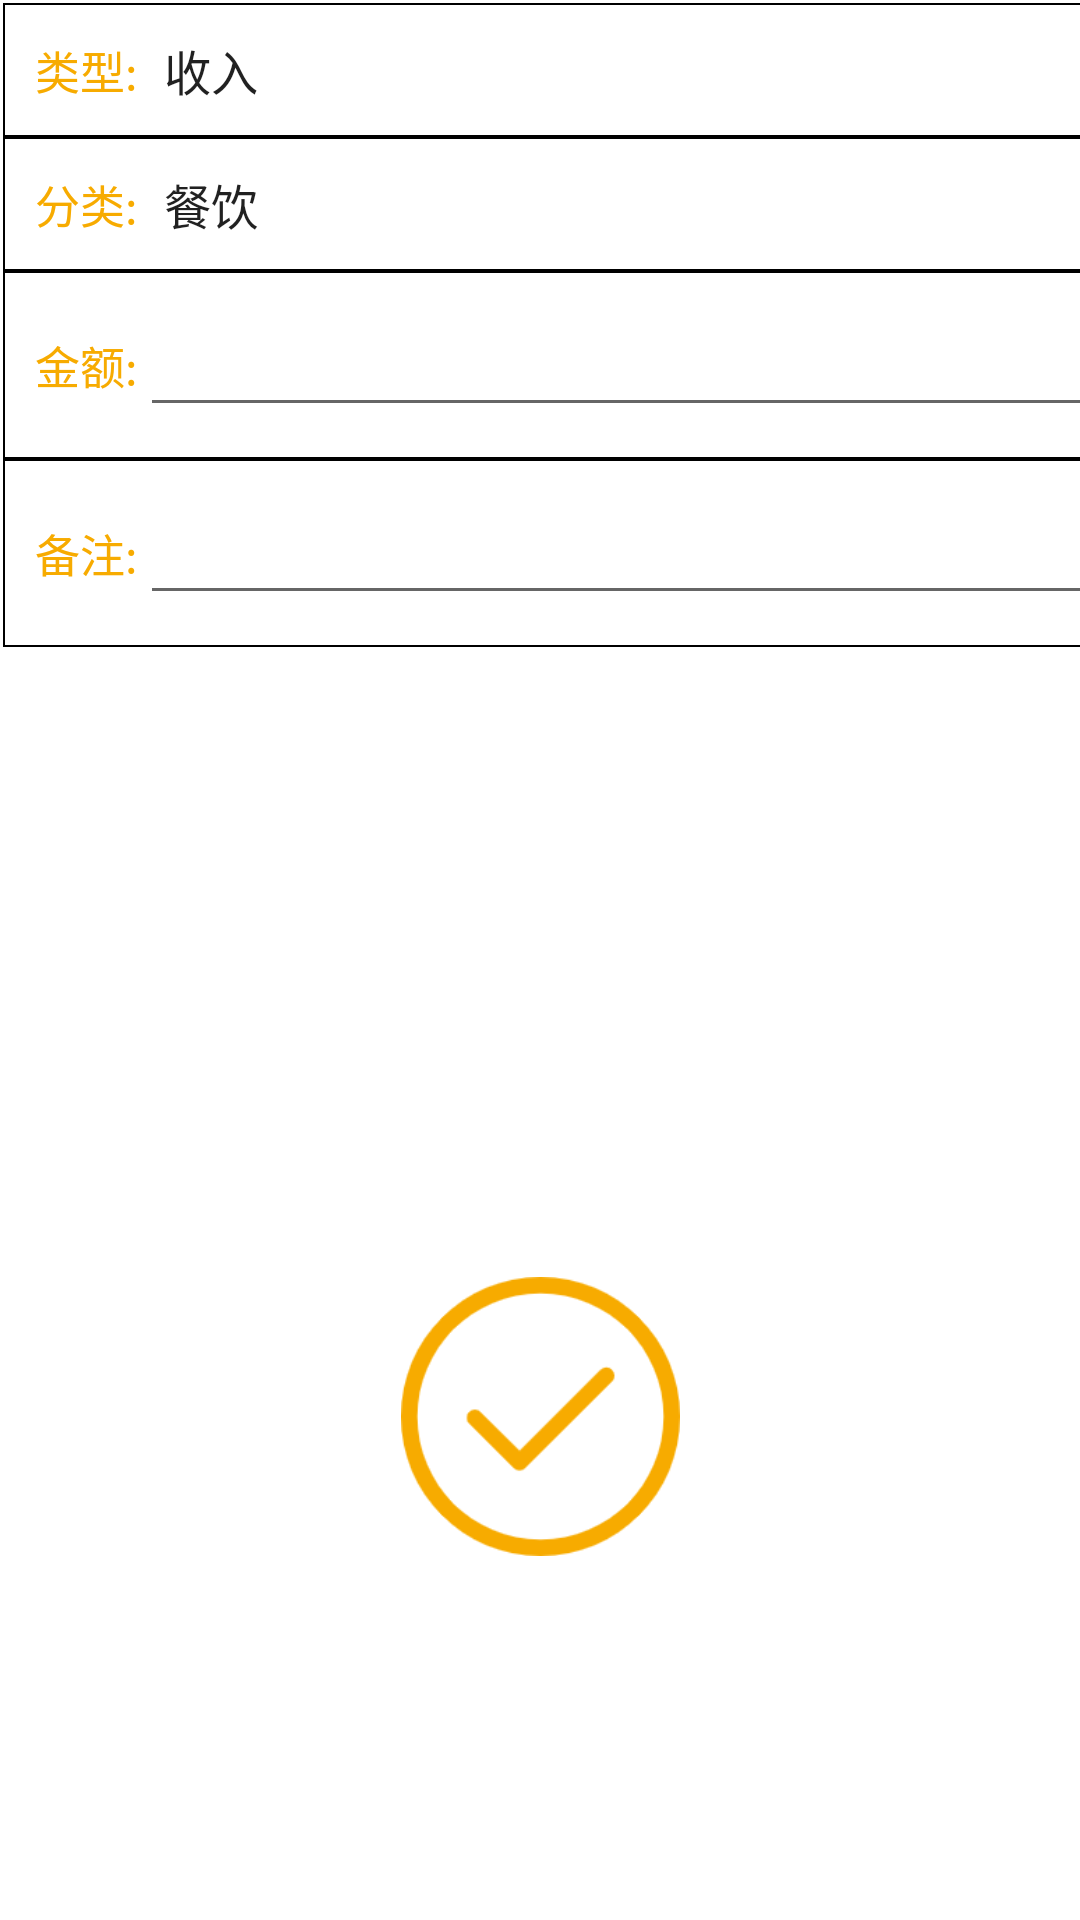

Locate icon controls on the screen. Image size 1080 × 1920, boxes as (x1, y1, x2, y2).
sure: (401, 1277, 680, 1556)
